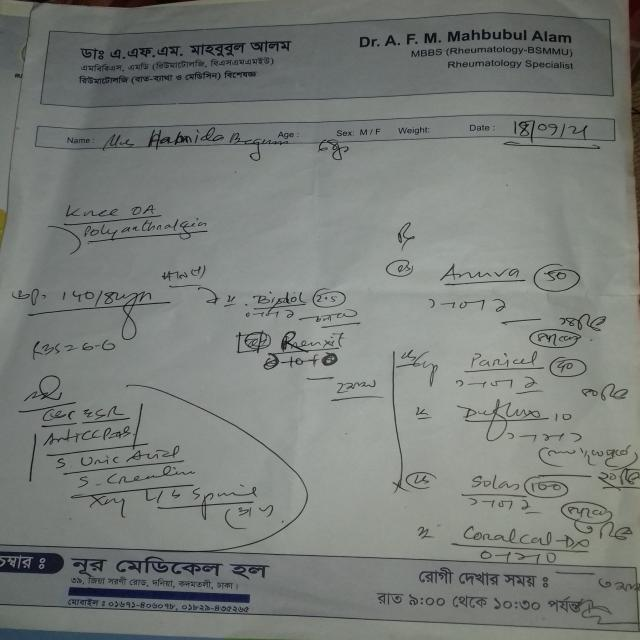Anuva: (431, 260, 525, 286)
Coralcal DX: (457, 520, 595, 553)
Deflux: (451, 396, 550, 429)
Paricel: (459, 349, 543, 373)
Solas: (462, 472, 525, 496)
